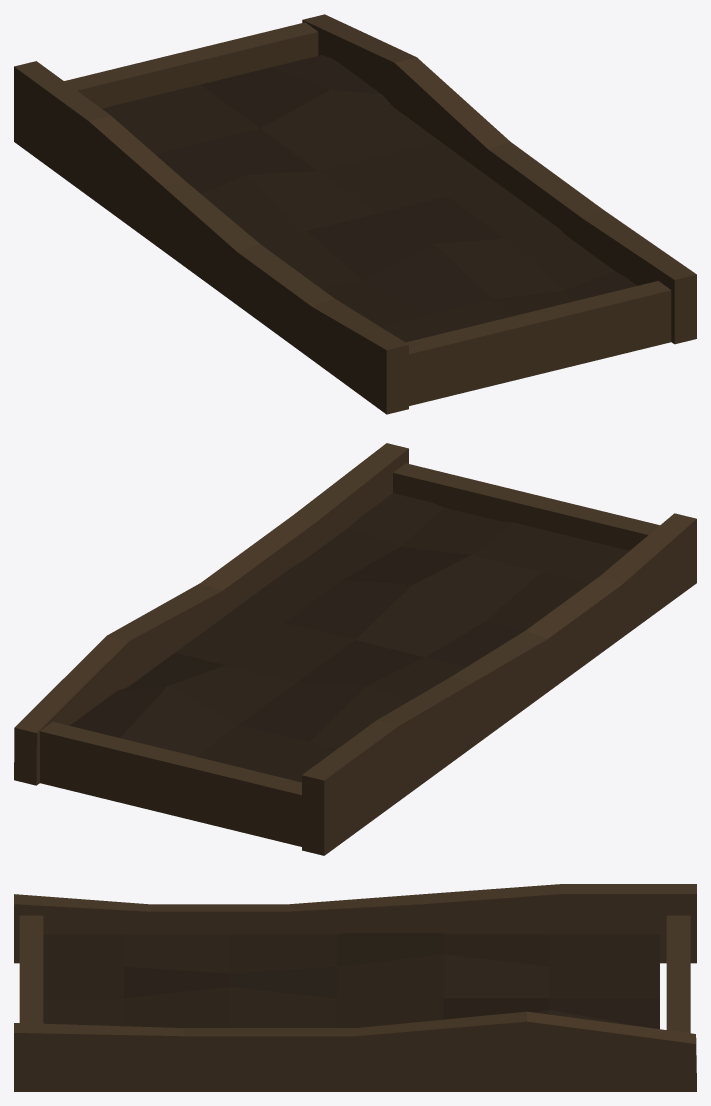
File: Gardenbed.fbx
The picture shows the model from 3 angles, top to bottom: view 1: azimuth 30°, elevation 25°; view 2: azimuth 150°, elevation 25°; view 3: azimuth 270°, elevation 25°; orthographic projection. The views are drawn at different scales.
Visible parts, largest first — view 1: Plane; view 2: Plane; view 3: Plane.
Part boxes in pixels (left/top/right/bottom): Plane: left=14, top=14, right=696, bottom=414; Plane: left=14, top=443, right=696, bottom=855; Plane: left=14, top=884, right=696, bottom=1091.
Size of the model in its own units: 964 by 228 by 2005.
1 material, 1 textured.
